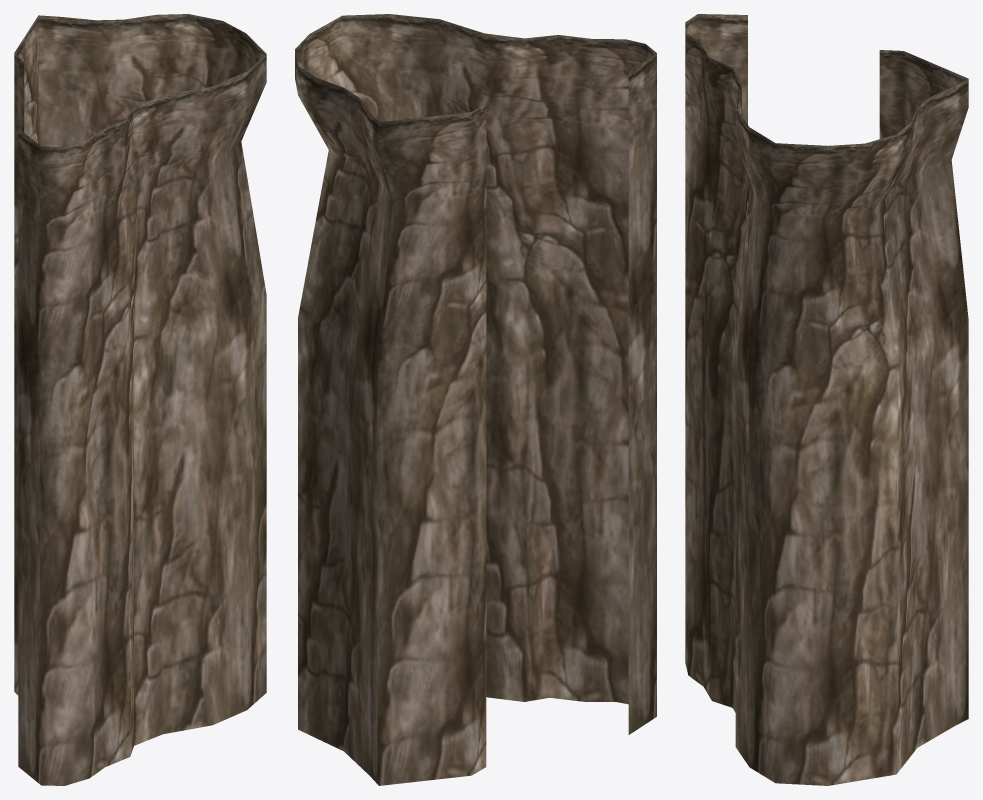
Rendered from OVERHILL_A_01_LINE54.fbx.
3 renders of one model, left to right at view 1: azimuth 30°, elevation 25°; view 2: azimuth 150°, elevation 25°; view 3: azimuth 270°, elevation 25°, orthographic. The views are drawn at different scales.
Parts seen in each view (by area): view 1: OVERHILL_A_01_LINE54; view 2: OVERHILL_A_01_LINE54; view 3: OVERHILL_A_01_LINE54.
Boxes of the visible parts, x1=… form: OVERHILL_A_01_LINE54: x1=14, y1=14, x2=266, y2=785; OVERHILL_A_01_LINE54: x1=295, y1=14, x2=656, y2=785; OVERHILL_A_01_LINE54: x1=685, y1=14, x2=968, y2=785.
Bounding box in the file's own units: 74940 × 169645 × 68115.
Materials: 2 (2 with a texture image).
